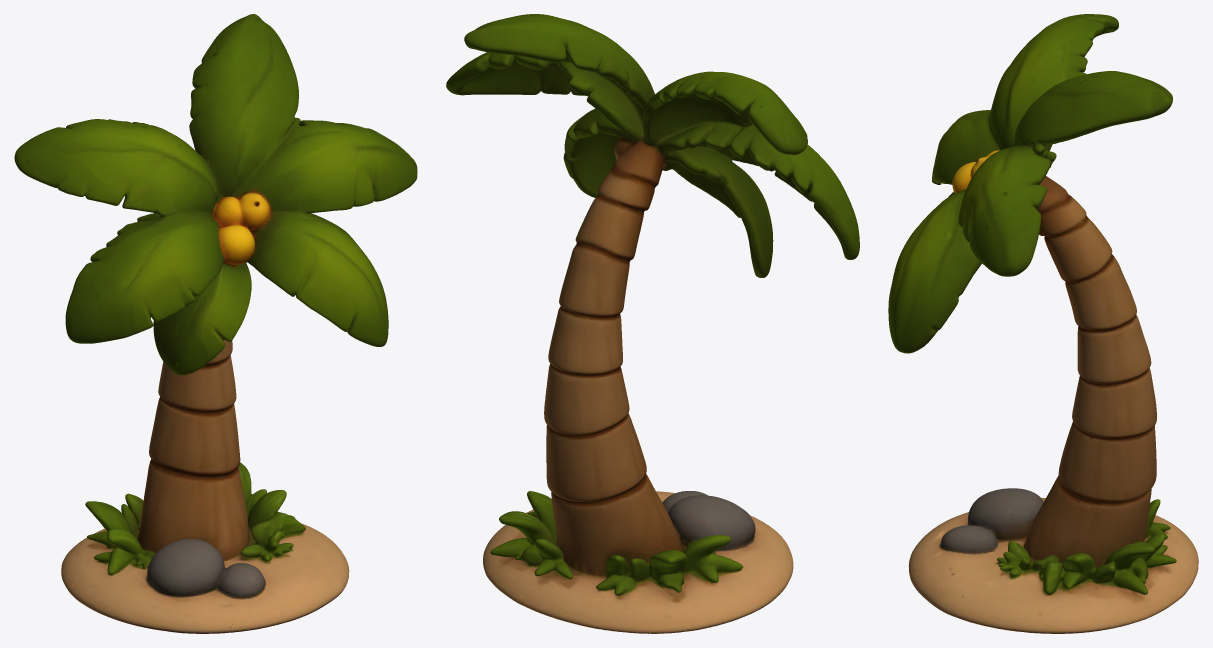
The model's file is palm_tree.glb.
3 renders of one model, left to right at view 1: azimuth 30°, elevation 25°; view 2: azimuth 150°, elevation 25°; view 3: azimuth 270°, elevation 25°, orthographic. The views are drawn at different scales.
Parts seen in each view (by area): view 1: geometry_0; view 2: geometry_0; view 3: geometry_0.
Boxes of the visible parts, x1,y1,x2,y2 form: geometry_0: (14,14,417,633); geometry_0: (446,14,859,633); geometry_0: (888,14,1198,633).
Size of the model in its own units: 0.7453 by 1 by 0.5289.
Materials: 1 (1 with a texture image).
